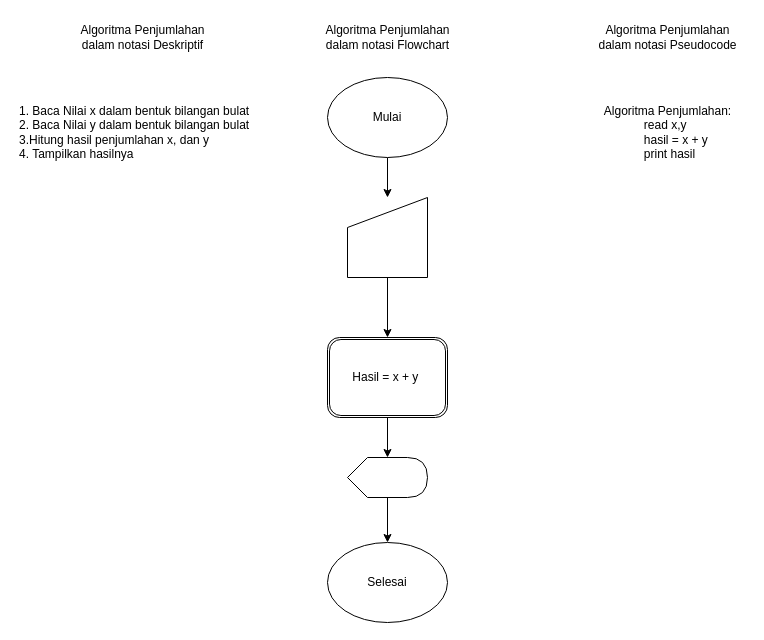
This 764x640 diagram has some shape labels left out. Here are the shapes that lost their labels. From the top down, the box of each, then its label:
(346, 196, 428, 278): x, y
(346, 456, 428, 498): Hasil
